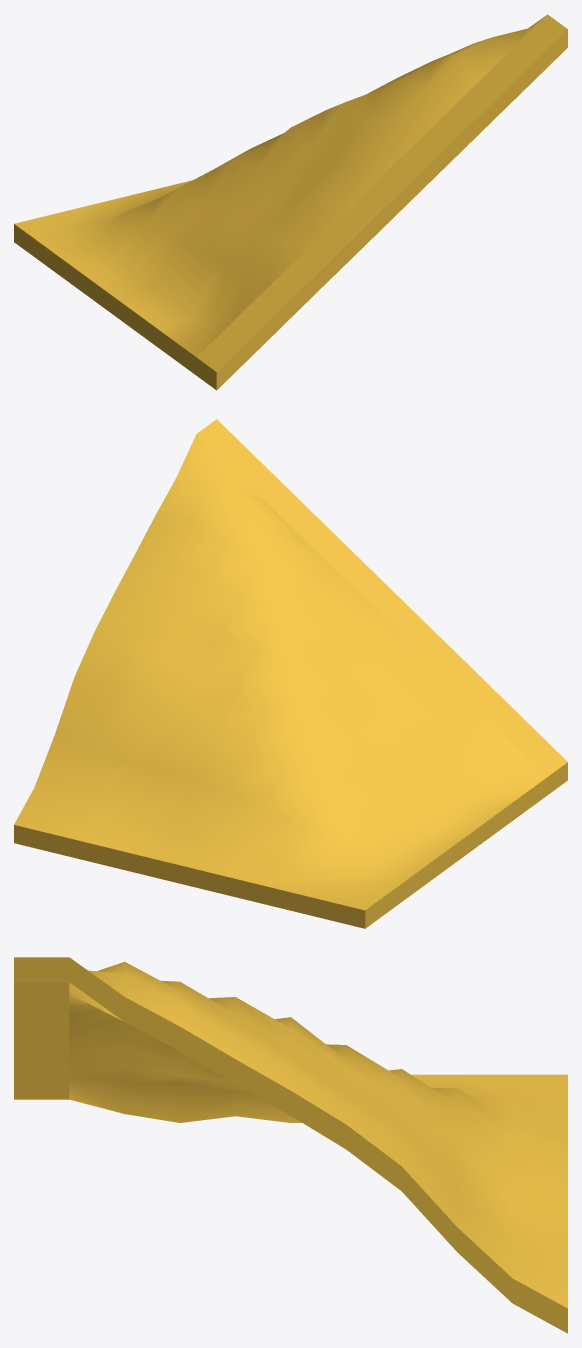
File: Steil - Mitte - Ecke b - x.fbx
3 views of the same model, one above another, from view 1: azimuth 30°, elevation 25°; view 2: azimuth 150°, elevation 25°; view 3: azimuth 270°, elevation 25° (orthographic). The views are drawn at different scales.
Visible parts, largest first — view 1: Steil - Mitte - Ecke b - x; view 2: Steil - Mitte - Ecke b - x; view 3: Steil - Mitte - Ecke b - x.
Boxes of the visible parts, x1=… form: Steil - Mitte - Ecke b - x: x1=14, y1=14, x2=567, y2=390; Steil - Mitte - Ecke b - x: x1=14, y1=419, x2=567, y2=928; Steil - Mitte - Ecke b - x: x1=14, y1=957, x2=567, y2=1333.
Bounding box in the file's own units: 394 × 295 × 394.
